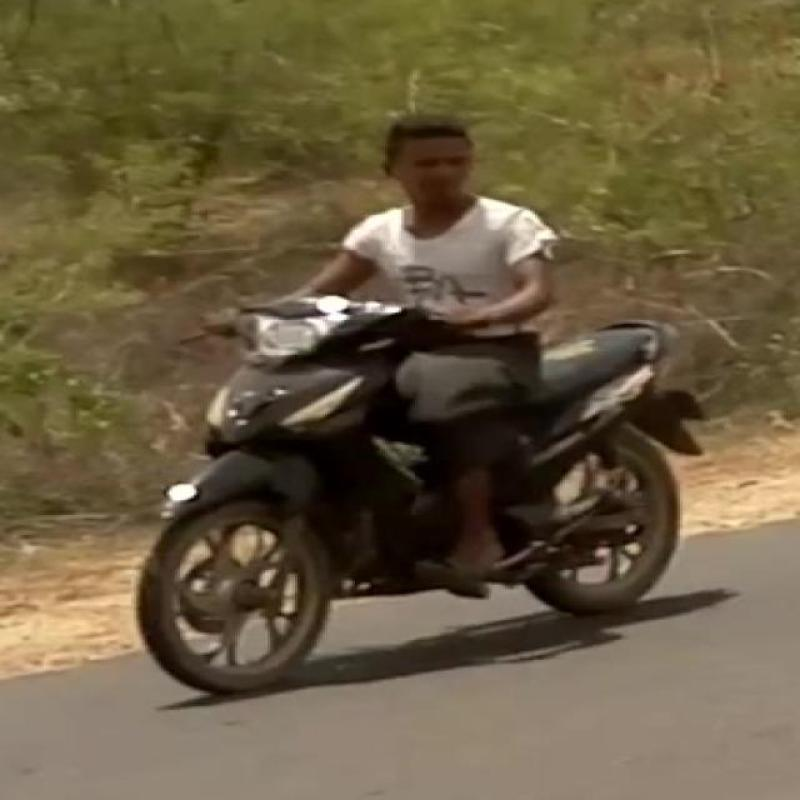nohelmet: (371, 102, 535, 216)
